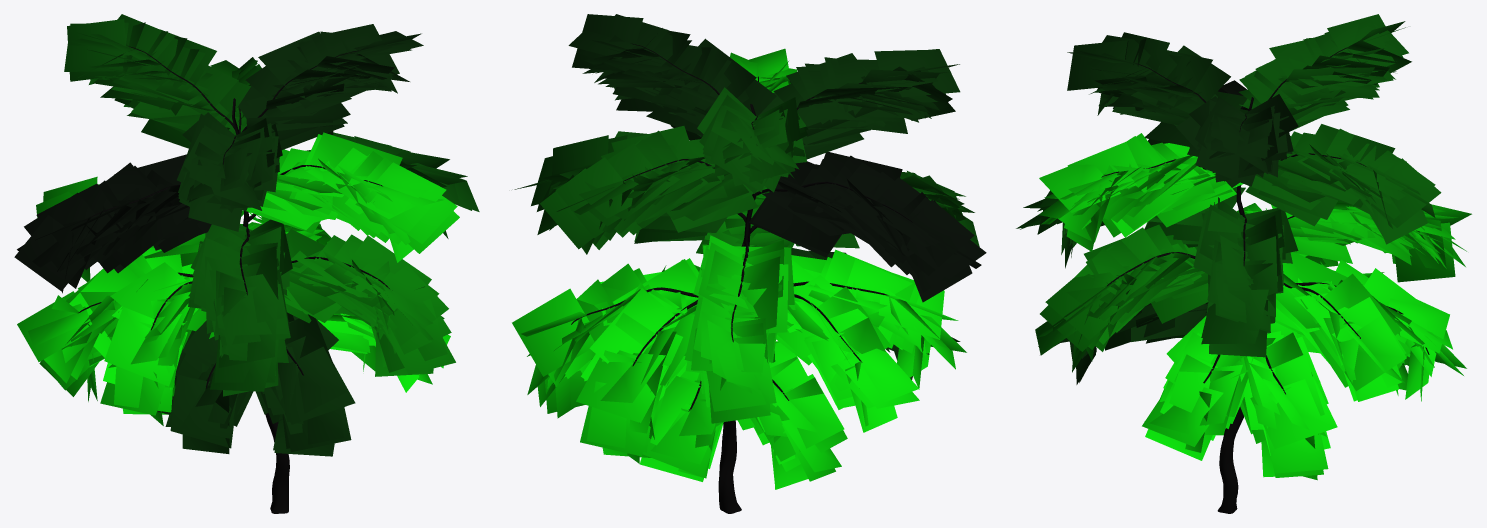
File: Maple_7.fbx
3 views of the same model, side by side, from view 1: azimuth 30°, elevation 25°; view 2: azimuth 150°, elevation 25°; view 3: azimuth 270°, elevation 25° (orthographic). The views are drawn at different scales.
Parts seen in each view (by area): view 1: Maple_7; view 2: Maple_7; view 3: Maple_7.
Part boxes in pixels (<box>): Maple_7: <box>14,14,479,513</box>; Maple_7: <box>512,14,986,513</box>; Maple_7: <box>1016,14,1471,513</box>.
Size of the model in its own units: 458 by 438 by 411.
